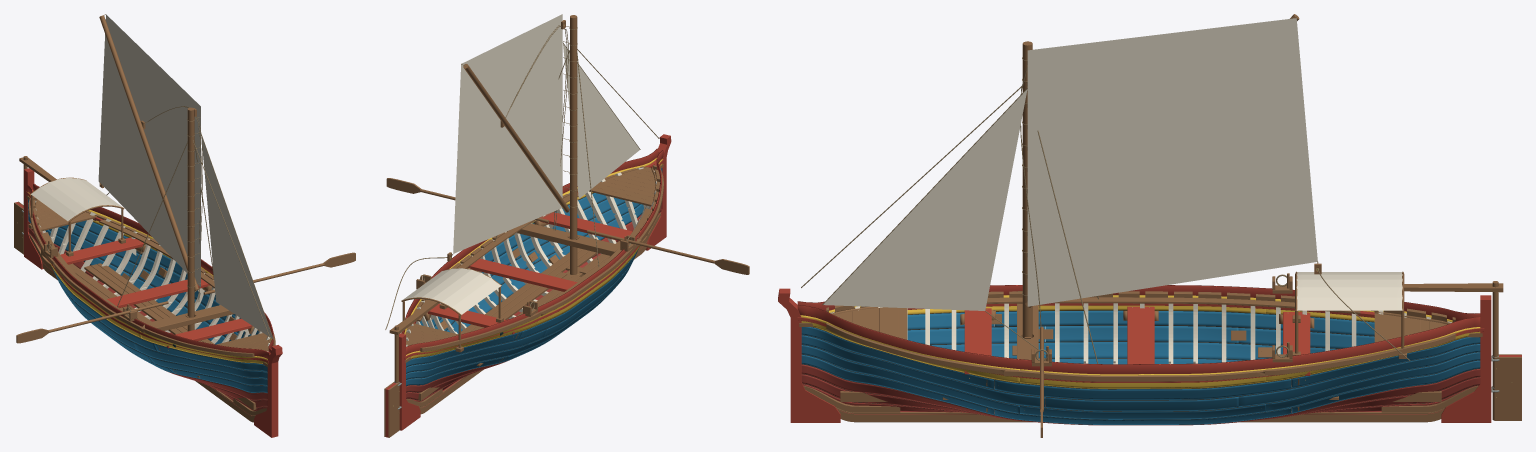
The model's file is xprunara.glb.
The picture shows the model from 3 angles, left to right: view 1: azimuth 30°, elevation 25°; view 2: azimuth 150°, elevation 25°; view 3: azimuth 270°, elevation 25°; orthographic projection. The views are drawn at different scales.
Visible parts, largest first — view 1: spritsail-472, jib-474, mast-455, sprit-473, washboards-74, bow-post-5, thwarts-337, planking-52, thwarts-324, mast-partners-452, thwarts-350, planking-58 (+30 smaller); view 2: spritsail-472, jib-474, mast-455, washboards-74, thwarts-337, mast-partners-452, sprit-473, planking-50, stern-post-6, thwarts-350, bow-post-5, washboards-173 (+33 smaller); view 3: spritsail-472, jib-474, washboards-173, planking-156, keel-0, planking-57, planking-37, bow-post-5, stern-post-6, planking-151, planking-149, planking-150 (+43 smaller).
Part boxes in pixels (x1,y1,x2,y2): spritsail-472: (98,14,200,287); jib-474: (201,136,272,338); mast-455: (187,107,194,331); sprit-473: (99,15,198,290); washboards-74: (27,185,270,358); bow-post-5: (254,345,282,437); thwarts-337: (107,279,210,307); planking-52: (133,342,267,379); thwarts-324: (47,237,143,264); mast-partners-452: (146,305,233,330); thwarts-350: (166,318,252,348); planking-58: (154,343,267,372); spritsail-472: (453,14,562,253); jib-474: (563,43,639,198); mast-455: (570,15,577,274); washboards-74: (406,150,663,354); thwarts-337: (468,258,577,291); mast-partners-452: (517,223,620,255); sprit-473: (463,64,569,212); planking-50: (406,329,546,373); stern-post-6: (399,333,420,430); thwarts-350: (540,212,632,240); bow-post-5: (645,134,671,250); washboards-173: (401,148,658,333); spritsail-472: (1027,18,1317,306); jib-474: (823,89,1027,310); washboards-173: (797,304,1480,374); planking-156: (994,379,1291,399); keel-0: (854,411,1427,422); planking-57: (994,310,1282,329); planking-37: (1038,342,1265,360); bow-post-5: (778,288,840,422); stern-post-6: (1441,295,1491,422); planking-151: (801,335,1045,407); planking-149: (1238,344,1480,407); planking-150: (1045,397,1238,411).
Size of the model in its own units: 9.31 by 7.62 by 12.51.
